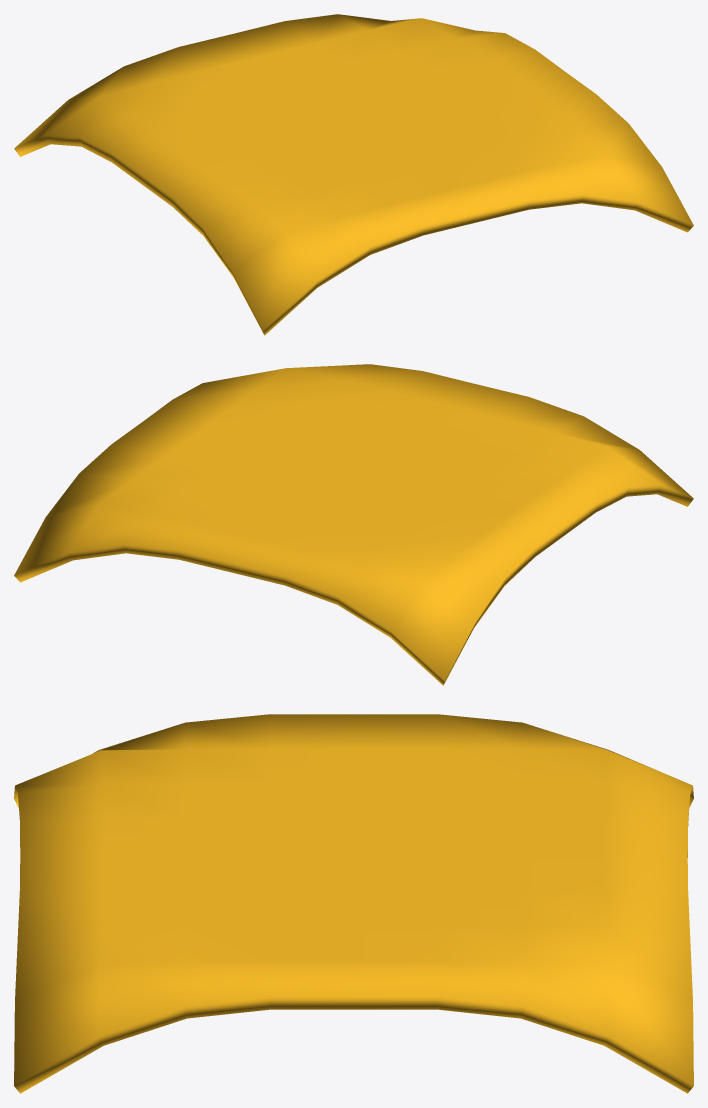
Rendered from cheese.glb.
The picture shows the model from 3 angles, top to bottom: view 1: azimuth 30°, elevation 25°; view 2: azimuth 150°, elevation 25°; view 3: azimuth 270°, elevation 25°; orthographic projection. The views are drawn at different scales.
Visible parts, largest first — view 1: cheese; view 2: cheese; view 3: cheese.
Boxes of the visible parts, x1,y1,x2,y2 form: cheese: [14, 14, 693, 335]; cheese: [14, 364, 693, 685]; cheese: [14, 714, 693, 1093].
Bounding box in the file's own units: 9.37 × 1.48 × 9.37.
